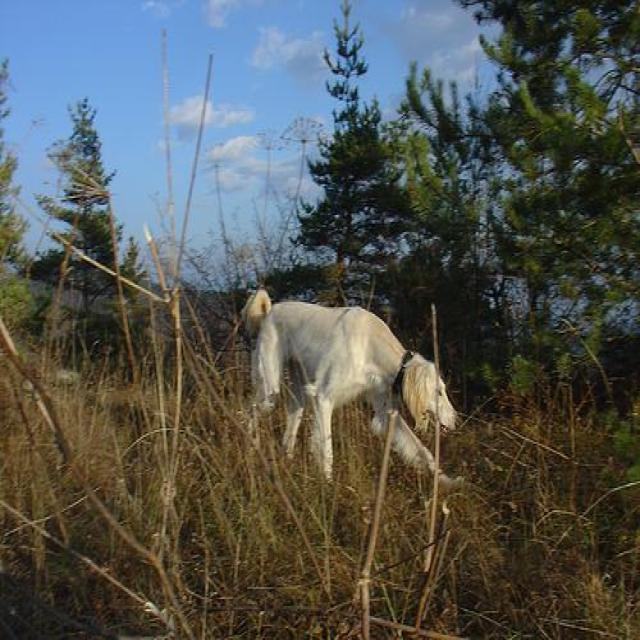saluki: (236, 285, 468, 488)
